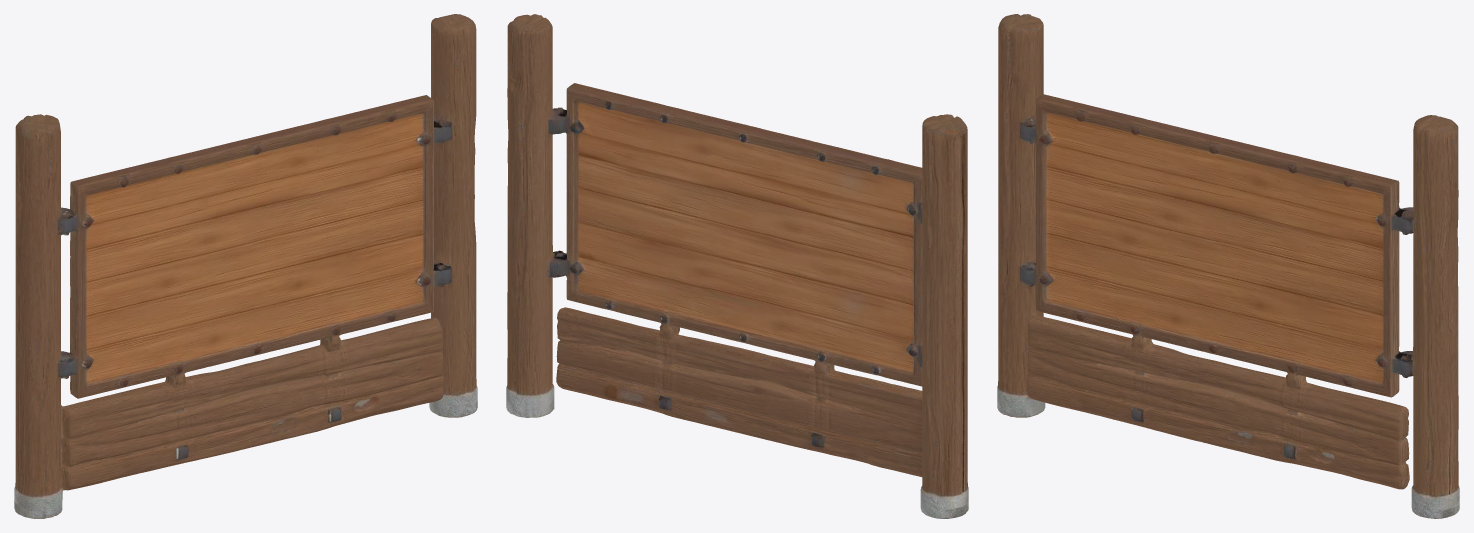
Rendered from billboard-opt.glb.
3 renders of one model, left to right at view 1: azimuth 30°, elevation 25°; view 2: azimuth 150°, elevation 25°; view 3: azimuth 330°, elevation 25°, orthographic.
Visible parts, largest first — view 1: Mesh_0; view 2: Mesh_0; view 3: Mesh_0.
Boxes of the visible parts, left/top/right/bottom form: Mesh_0: left=14, top=14, right=477, bottom=518; Mesh_0: left=506, top=14, right=968, bottom=518; Mesh_0: left=997, top=14, right=1459, bottom=518.
Bounding box in the file's own units: 1.91 × 1.55 × 0.2051.
Materials: 1 (1 with a texture image).
